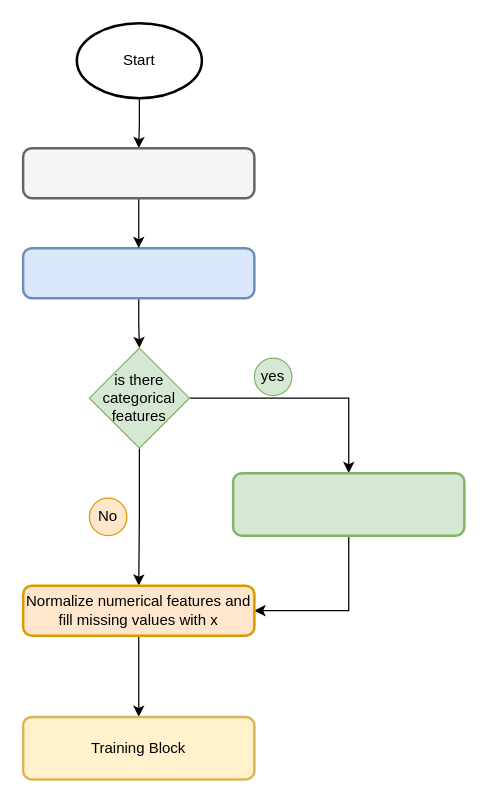
The diagram is 486 pixels wide and 801 high, and some of its shapes have lost their labels. Here are the shapes that lost their labels. From the top down, the centre of each, then its label:
At (138,172): "Load data".
At (138,272): "Split data to numerical and categorical features".
At (348,503): "Encode categorical features and fill missing values with a random number".
